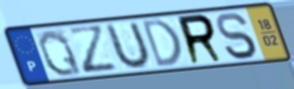D: (139, 16, 185, 70)
Q: (36, 28, 85, 78)
R: (175, 13, 226, 68)
S: (214, 11, 259, 61)
U: (104, 20, 152, 72)
Z: (65, 24, 121, 76)
